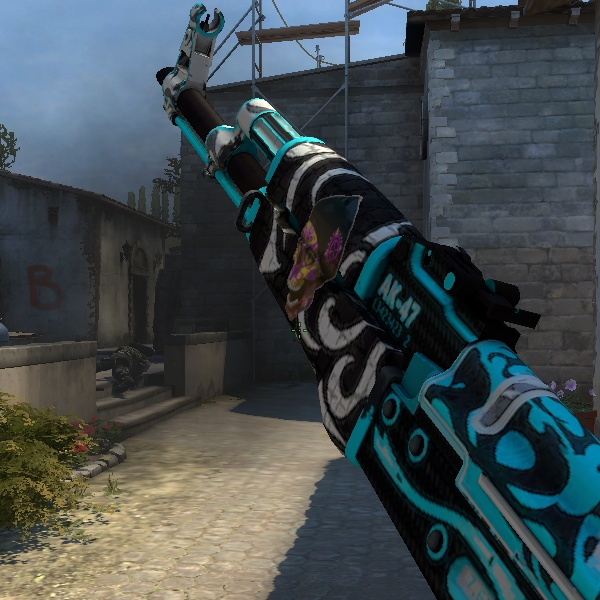ct_body: (109, 20, 566, 577)
